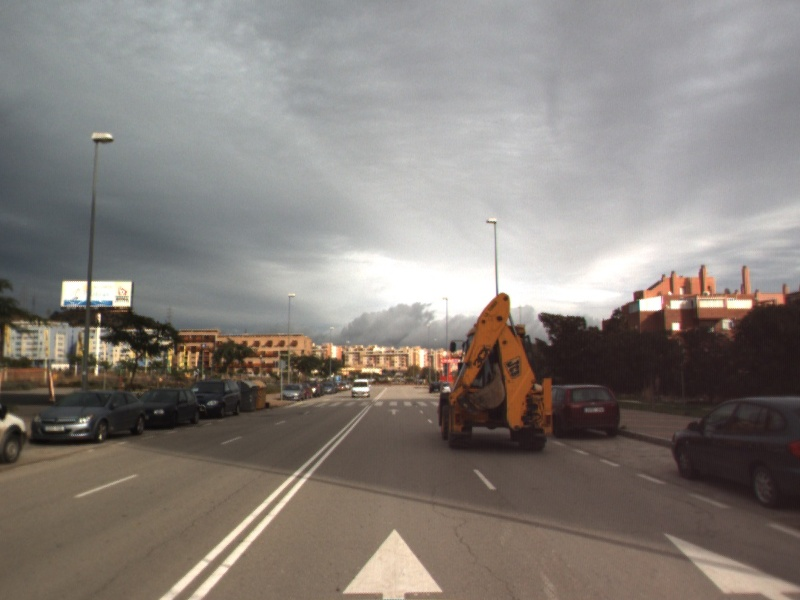STRAIGHT: (659, 530, 800, 600), (339, 525, 446, 600), (386, 407, 402, 417)
